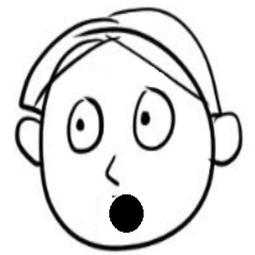ear: (207, 107, 249, 176), (9, 113, 56, 170)
eye: (126, 86, 180, 154), (61, 93, 108, 158)
open_mouth: (106, 193, 145, 235)
pointy_nose: (102, 154, 126, 186)
